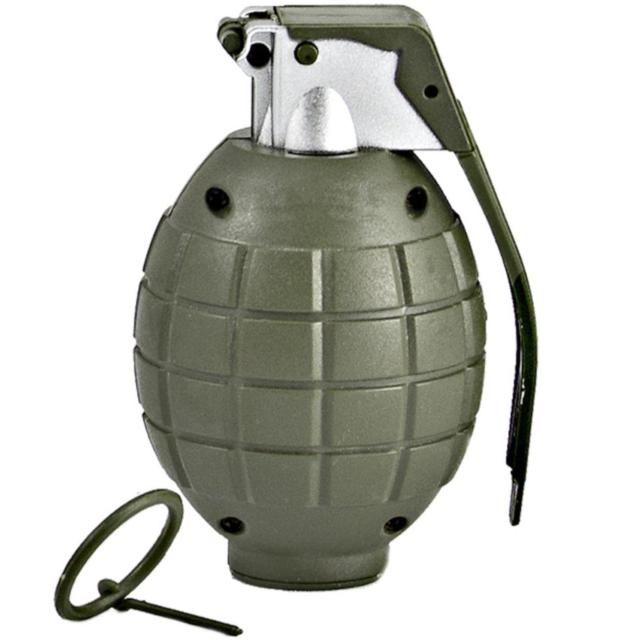grenade: (133, 4, 542, 594)
